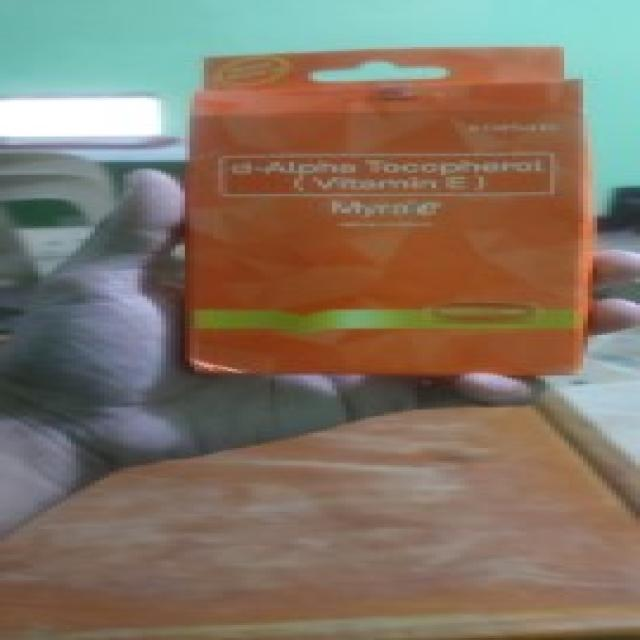Cacat: (183, 40, 588, 377)
